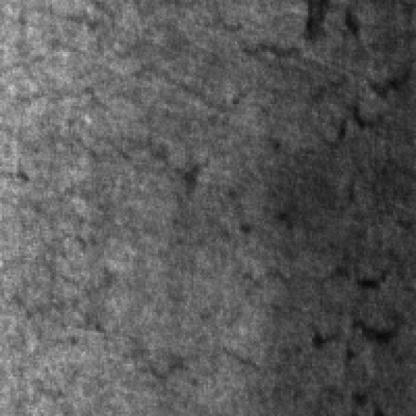crazing: (0, 253, 184, 384), (216, 262, 400, 381)
